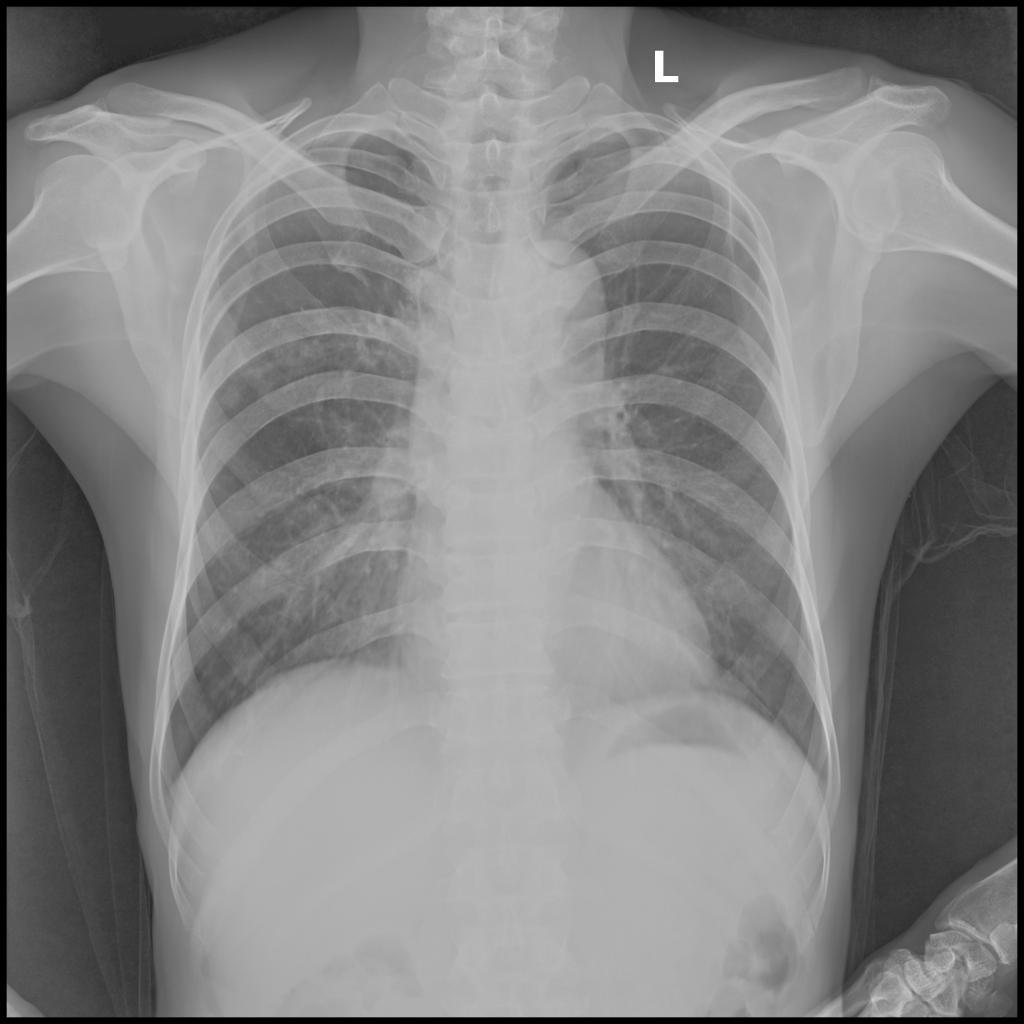Nodule: (218, 386, 243, 413)
